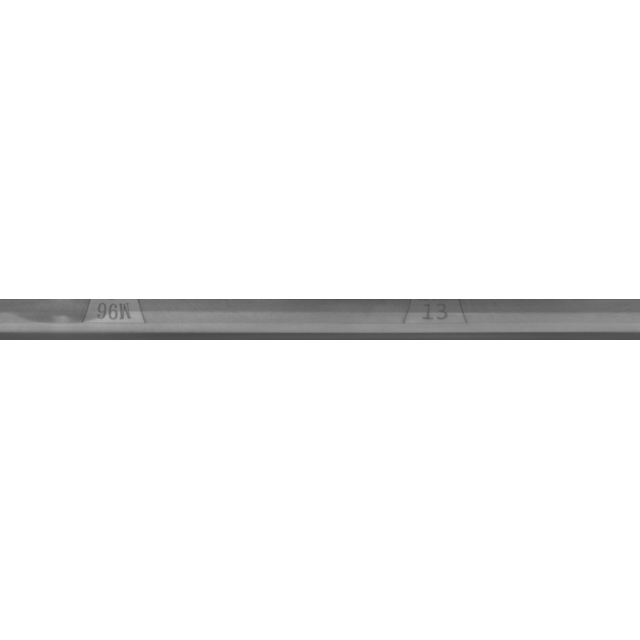mohao: (17, 270, 217, 370)
xuehao: (334, 270, 534, 370)
